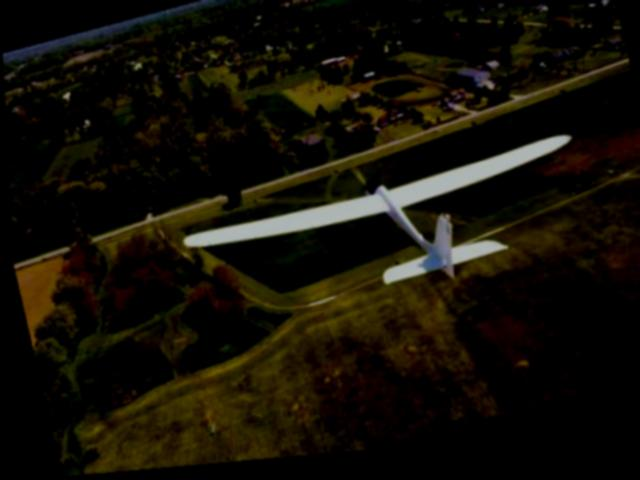uav: (163, 123, 599, 354)
